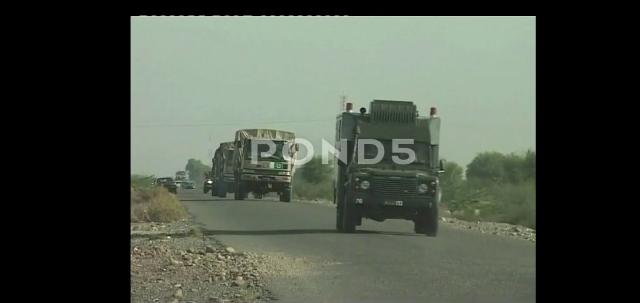plate: (382, 197, 404, 207)
